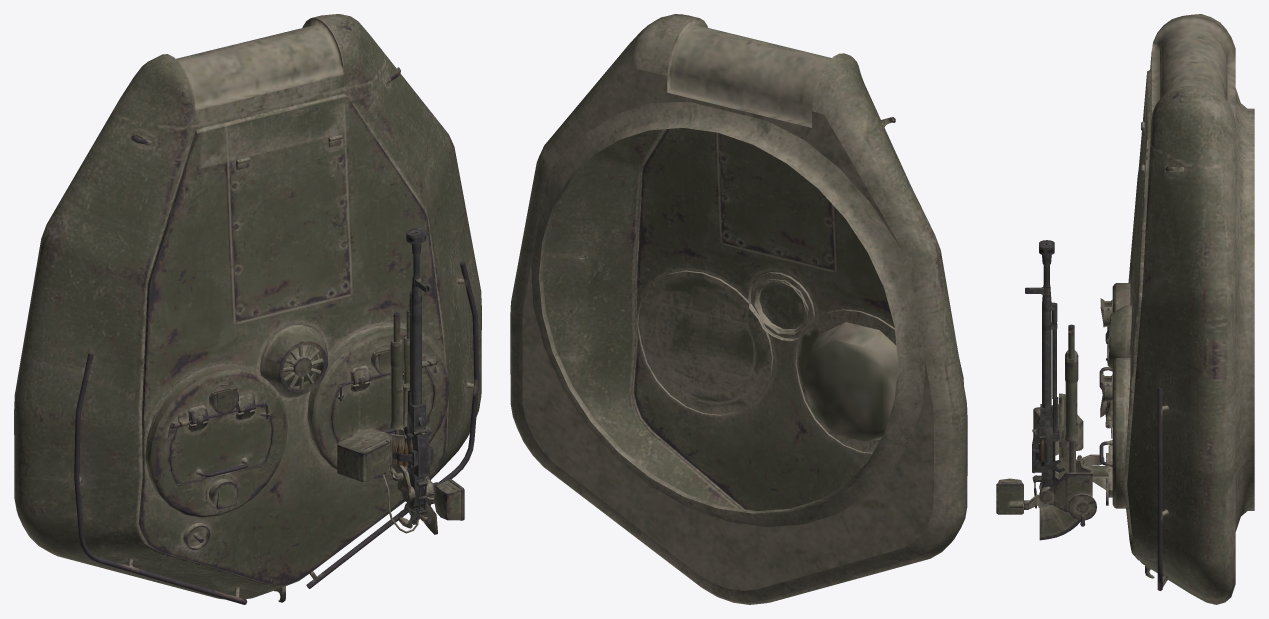
File: Turret_01.glb
3 views of the same model, side by side, from view 1: azimuth 30°, elevation 25°; view 2: azimuth 150°, elevation 25°; view 3: azimuth 270°, elevation 25° (orthographic). The views are drawn at different scales.
Parts seen in each view (by area): view 1: set_0_group_0; view 2: set_0_group_0; view 3: set_0_group_0.
Boxes of the visible parts, x1,y1,x2,y2 form: set_0_group_0: (14, 14, 481, 604); set_0_group_0: (510, 14, 967, 604); set_0_group_0: (996, 14, 1254, 604).
Size of the model in its own units: 2.68 by 3.15 by 1.36.
Materials: 1 (1 with a texture image).
